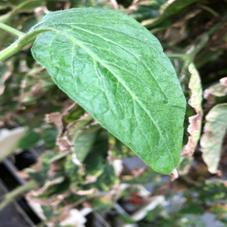Healthy: (17, 5, 189, 178)
